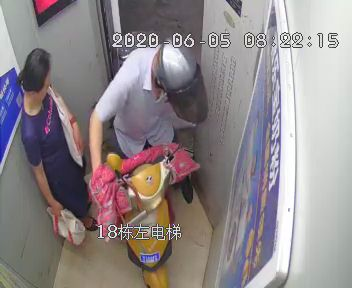Electric-bicycle: (91, 140, 199, 288)
